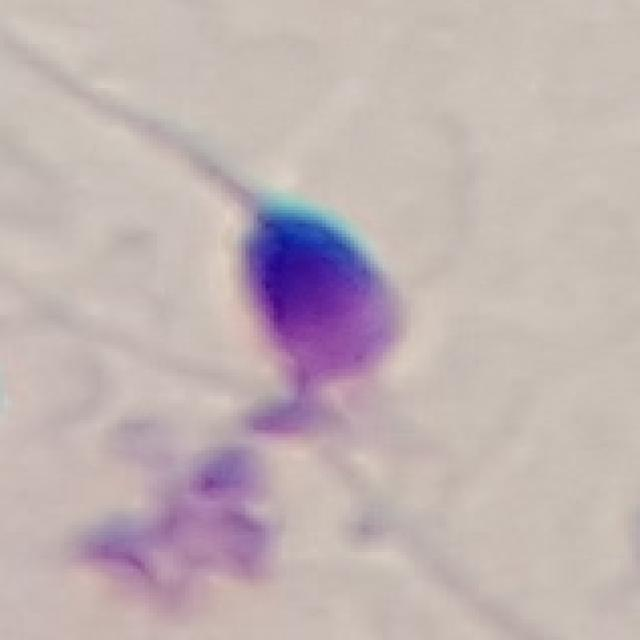normal sperm: (183, 129, 416, 385)
